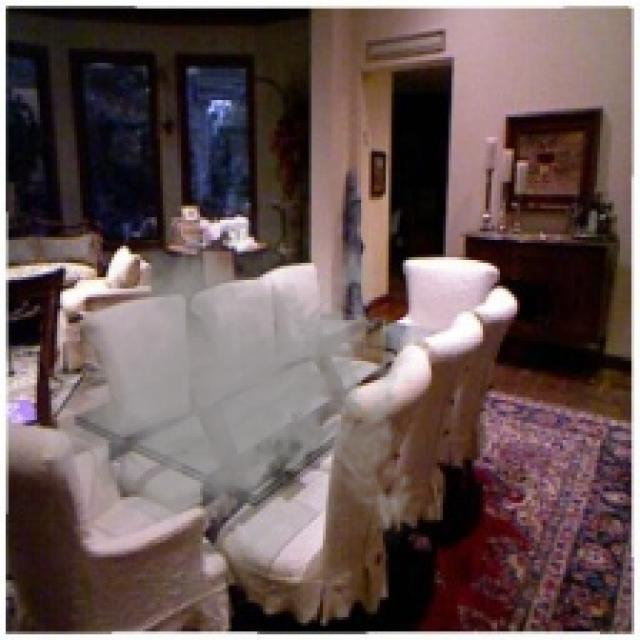Smoke: (40, 192, 423, 588)
